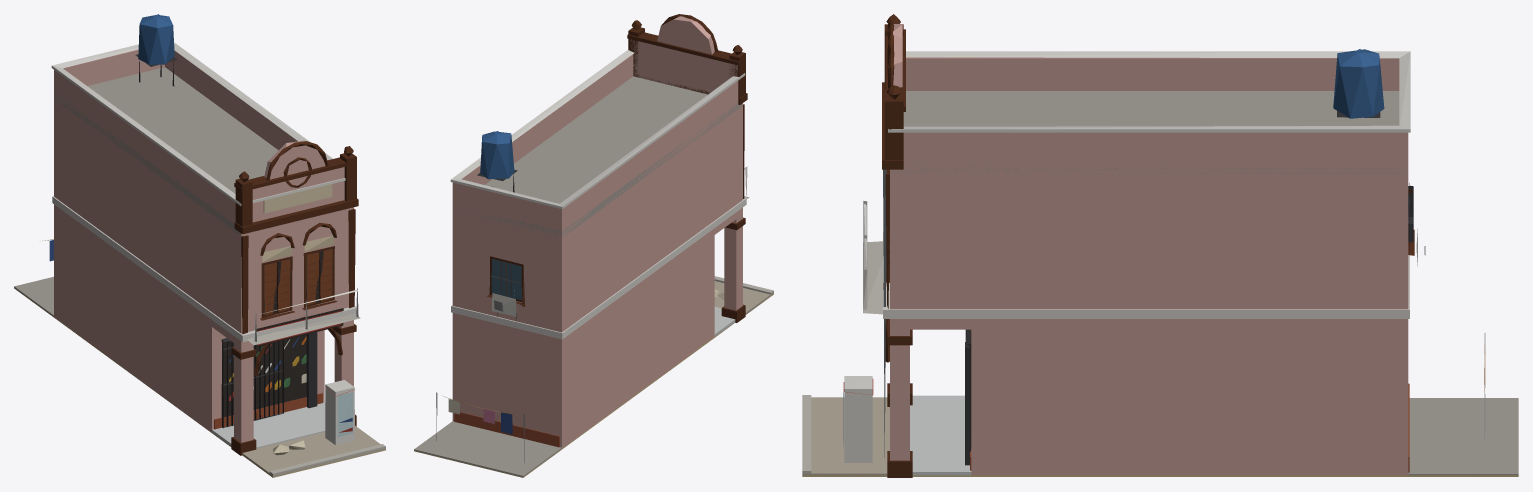
Rendered from bay1_mid2.glb.
3 renders of one model, left to right at view 1: azimuth 30°, elevation 25°; view 2: azimuth 150°, elevation 25°; view 3: azimuth 270°, elevation 25°, orthographic. The views are drawn at different scales.
Parts seen in each view (by area): view 1: body, windows; view 2: body, windows; view 3: body.
Boxes of the visible parts, <box> form: body: <box>14,14,385,477</box>; windows: <box>222,248,332,417</box>; body: <box>414,14,773,477</box>; windows: <box>491,259,521,300</box>; body: <box>802,14,1518,477</box>.
Bounding box in the file's own units: 4.12 × 10.13 × 15.9.
